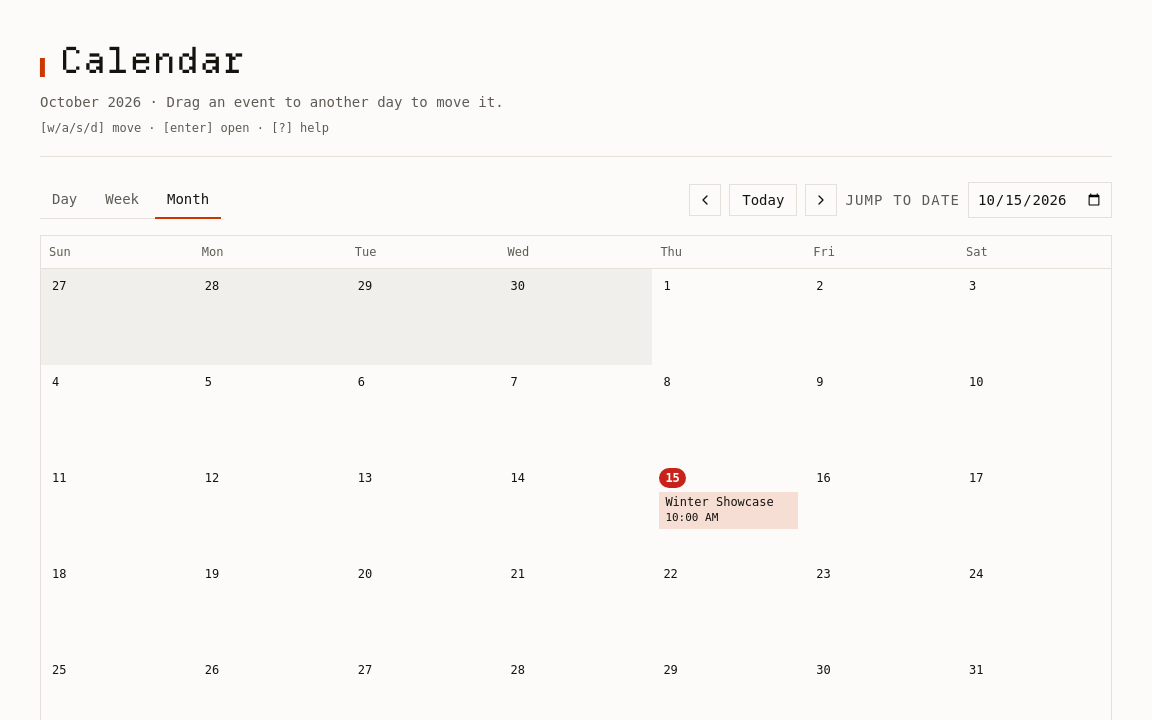
Test: CalendarPage › opens an event's overview and links on to the full event page
Click the button with aria-label "open winter showcase" at coordinates (729, 510), box [665,494,792,526]
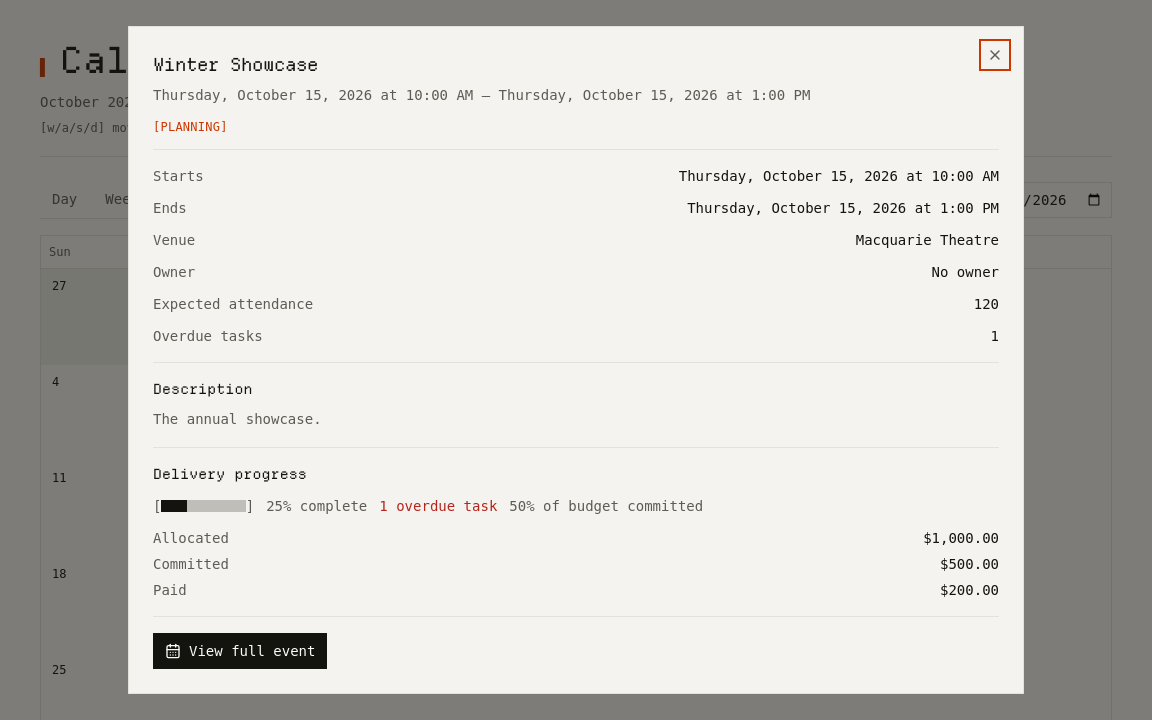
Expected: the heading "Winter Showcase" is shown, [153,53,318,76]
Expected: the text "Macquarie Theatre" is shown, [856,230,999,250]
Expected: the text "The annual showcase." is shown, [153,411,322,427]
